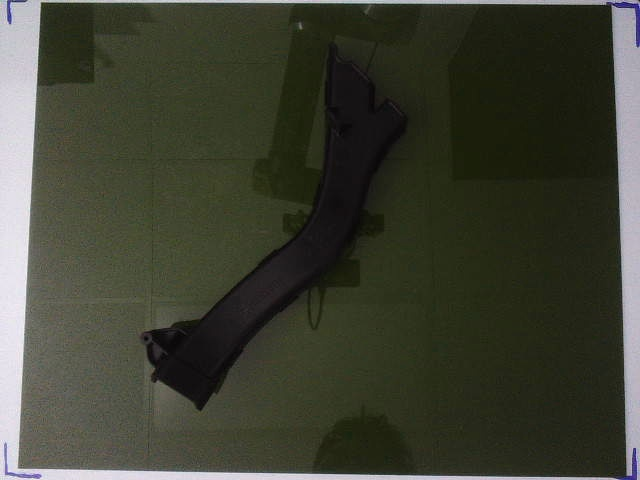887_A-Top: (141, 43, 408, 411)
